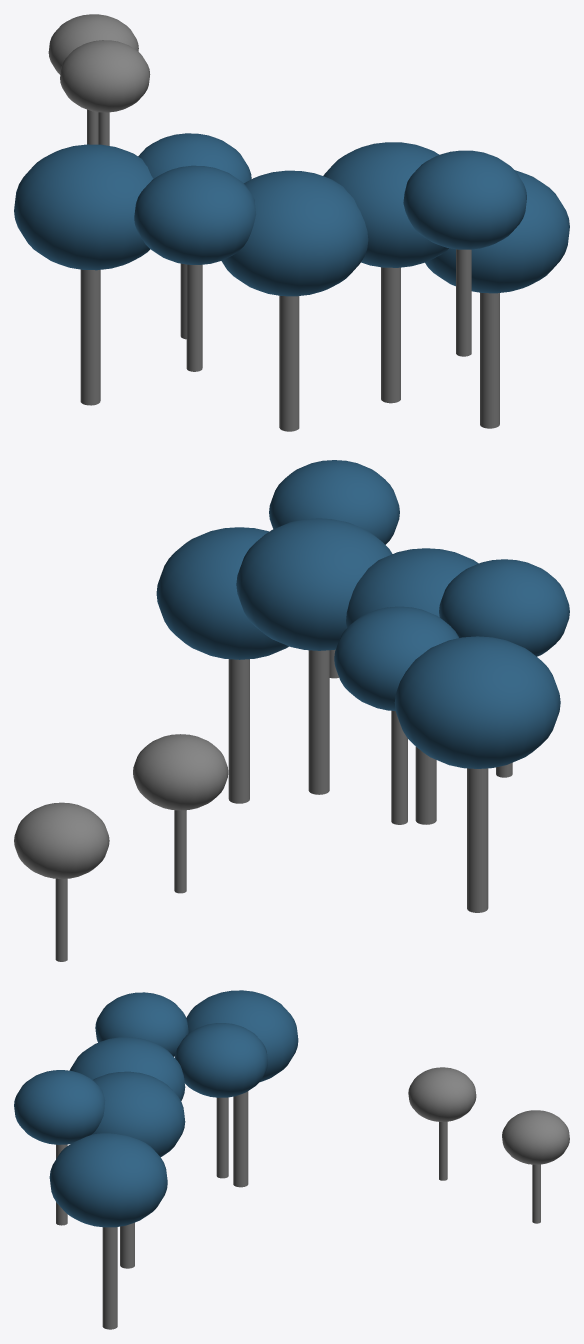
File: Trees.fbx
3 views of the same model, one above another, from view 1: azimuth 30°, elevation 25°; view 2: azimuth 150°, elevation 25°; view 3: azimuth 270°, elevation 25° (orthographic). The views are drawn at different scales.
Parts seen in each view (by area): view 1: polySurface2_3, polySurface2_1, polySurface2_4, polySurface2_5, polySurface2, polySurface2_2, polySurface2_8, polySurface2_6, polySurface1_1, polySurface1_3, polySurface1, polySurface1_2 (+4 smaller); view 2: polySurface2_3, polySurface2, polySurface2_2, polySurface2_5, polySurface2_6, polySurface2_4, polySurface2_8, polySurface2_7, polySurface2_1, polySurface1, polySurface1_2, polySurface1_3 (+4 smaller); view 3: polySurface2_2, polySurface2_6, polySurface2_4, polySurface2, polySurface2_3, polySurface2_5, polySurface2_1, polySurface2_7, polySurface2_8, polySurface1_2, polySurface1_3, polySurface1_6 (+3 smaller).
Boxes of the visible parts, x1=… form: polySurface2_3: x1=14, y1=144, x2=153, y2=270; polySurface2_1: x1=221, y1=170, x2=368, y2=296; polySurface2_4: x1=403, y1=150, x2=526, y2=249; polySurface2_5: x1=134, y1=165, x2=256, y2=264; polySurface2: x1=323, y1=142, x2=448, y2=267; polySurface2_2: x1=425, y1=170, x2=569, y2=293; polySurface2_8: x1=60, y1=40, x2=150, y2=112; polySurface2_6: x1=138, y1=133, x2=251, y2=183; polySurface1_1: x1=279, y1=295, x2=299, y2=431; polySurface1_3: x1=80, y1=269, x2=100, y2=405; polySurface1: x1=381, y1=267, x2=400, y2=403; polySurface1_2: x1=480, y1=292, x2=499, y2=428; polySurface2_3: x1=394, y1=636, x2=560, y2=768; polySurface2: x1=236, y1=518, x2=392, y2=650; polySurface2_2: x1=156, y1=527, x2=288, y2=659; polySurface2_5: x1=439, y1=559, x2=569, y2=656; polySurface2_6: x1=334, y1=606, x2=458, y2=710; polySurface2_4: x1=269, y1=460, x2=399, y2=544; polySurface2_8: x1=133, y1=734, x2=228, y2=810; polySurface2_7: x1=14, y1=802, x2=109, y2=878; polySurface2_1: x1=346, y1=548, x2=478, y2=628; polySurface1: x1=308, y1=650, x2=329, y2=794; polySurface1_2: x1=228, y1=659, x2=249, y2=803; polySurface1_3: x1=467, y1=768, x2=488, y2=912; polySurface2_2: x1=49, y1=1133, x2=167, y2=1227; polySurface2_6: x1=175, y1=1023, x2=267, y2=1097; polySurface2_4: x1=14, y1=1070, x2=105, y2=1144; polySurface2: x1=92, y1=1071, x2=185, y2=1156; polySurface2_3: x1=186, y1=990, x2=298, y2=1081; polySurface2_5: x1=95, y1=992, x2=188, y2=1056; polySurface2_1: x1=69, y1=1037, x2=185, y2=1100; polySurface2_7: x1=502, y1=1110, x2=569, y2=1164; polySurface2_8: x1=408, y1=1067, x2=476, y2=1121; polySurface1_2: x1=102, y1=1227, x2=117, y2=1329; polySurface1_3: x1=233, y1=1091, x2=248, y2=1187; polySurface1_6: x1=216, y1=1097, x2=228, y2=1178.
Size of the model in its own units: 1276 by 829 by 1818.
